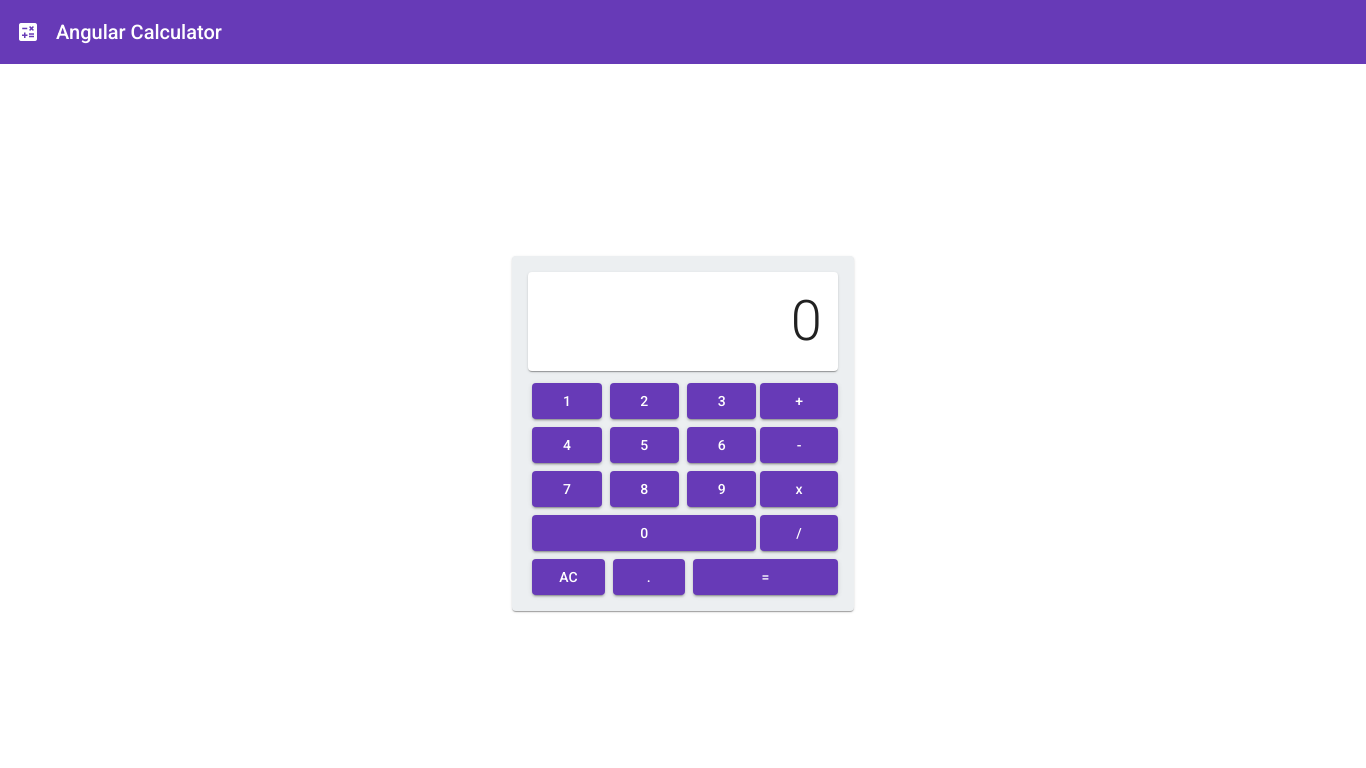
Test: Test Application › Display SHOULD change value WHEN some button clicked
Click the button "2": click(645, 401) [610,383,679,419]
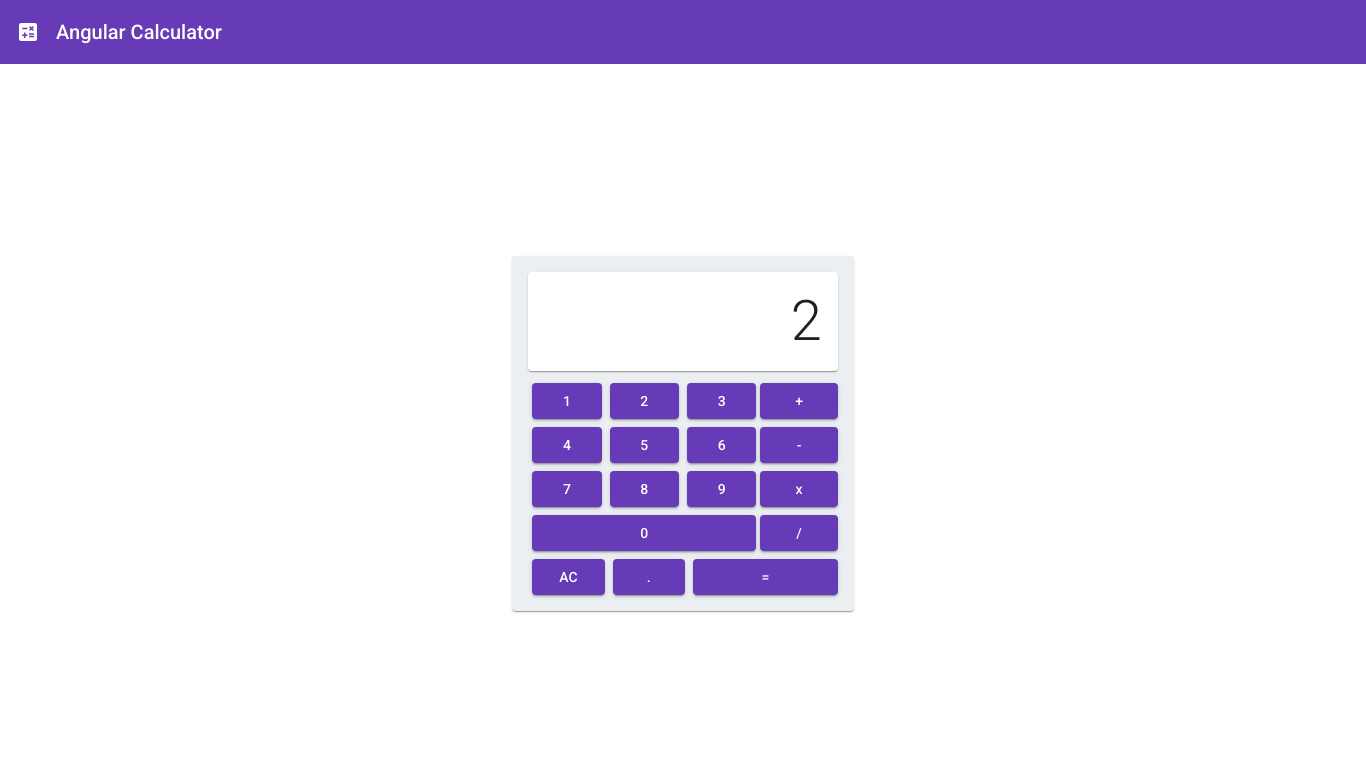
Expected: the text "2" is shown, [791,288,822,354]
